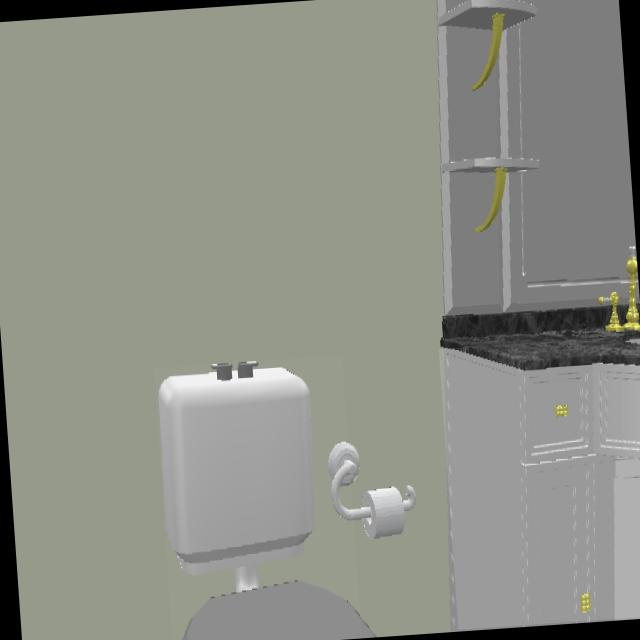cabinet: (443, 349, 640, 630)
toilet: (158, 361, 361, 640)
